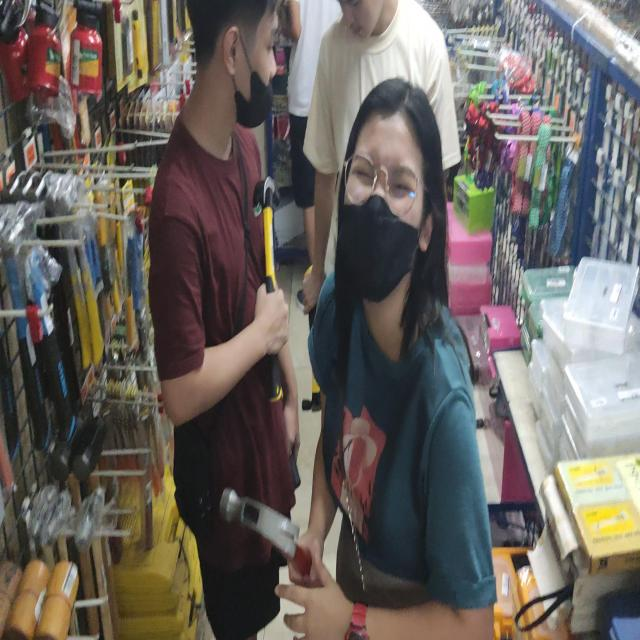hammer: (220, 488, 311, 576), (253, 176, 282, 402), (302, 265, 322, 412)
